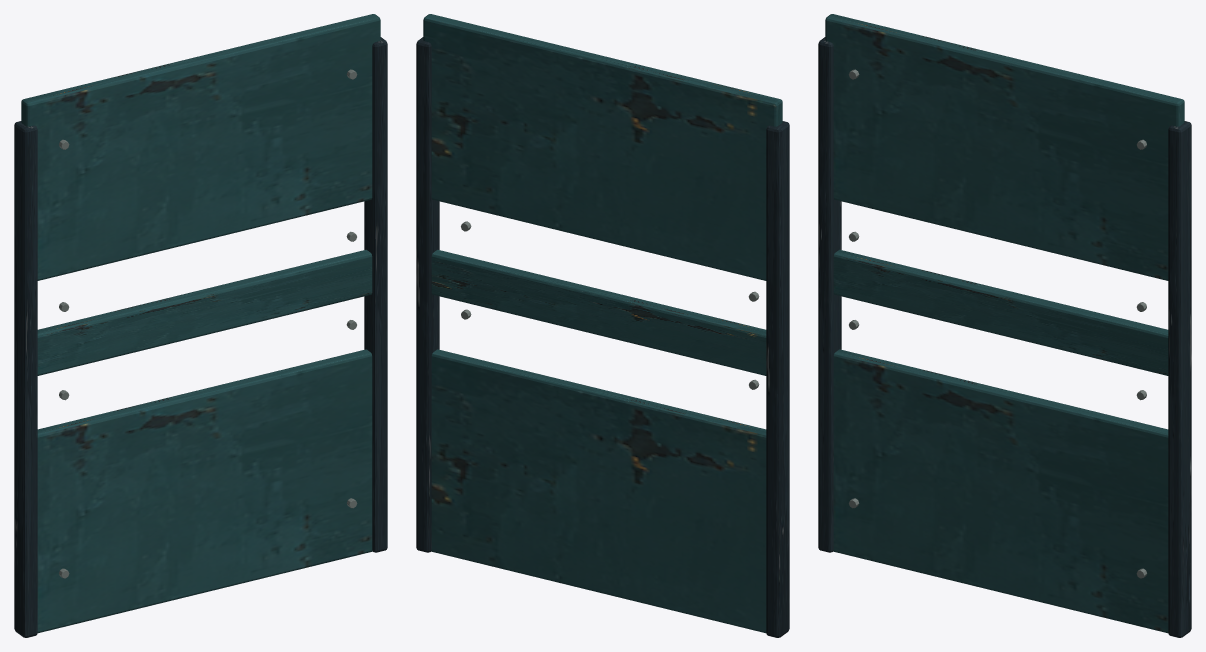
The model's file is locker-interior-frame.glb.
3 renders of one model, left to right at view 1: azimuth 30°, elevation 25°; view 2: azimuth 150°, elevation 25°; view 3: azimuth 330°, elevation 25°, orthographic.
Parts seen in each view (by area): view 1: locker-interior-frame__locker-interior-frame__petrol, locker-interior-frame__locker-interior-frame__steel, locker-interior-frame__locker-interior-frame__hardware; view 2: locker-interior-frame__locker-interior-frame__petrol, locker-interior-frame__locker-interior-frame__steel; view 3: locker-interior-frame__locker-interior-frame__petrol, locker-interior-frame__locker-interior-frame__steel, locker-interior-frame__locker-interior-frame__hardware.
Boxes of the visible parts, x1,y1,x2,y2 form: locker-interior-frame__locker-interior-frame__petrol: (21, 14, 380, 633); locker-interior-frame__locker-interior-frame__steel: (14, 37, 387, 637); locker-interior-frame__locker-interior-frame__hardware: (59, 69, 357, 578); locker-interior-frame__locker-interior-frame__petrol: (423, 14, 782, 633); locker-interior-frame__locker-interior-frame__steel: (416, 37, 789, 637); locker-interior-frame__locker-interior-frame__petrol: (825, 14, 1184, 633); locker-interior-frame__locker-interior-frame__steel: (818, 37, 1191, 637); locker-interior-frame__locker-interior-frame__hardware: (848, 69, 1146, 578).
Size of the model in its own units: 1.65 by 2.3 by 0.1115.
3 materials, 2 textured.
